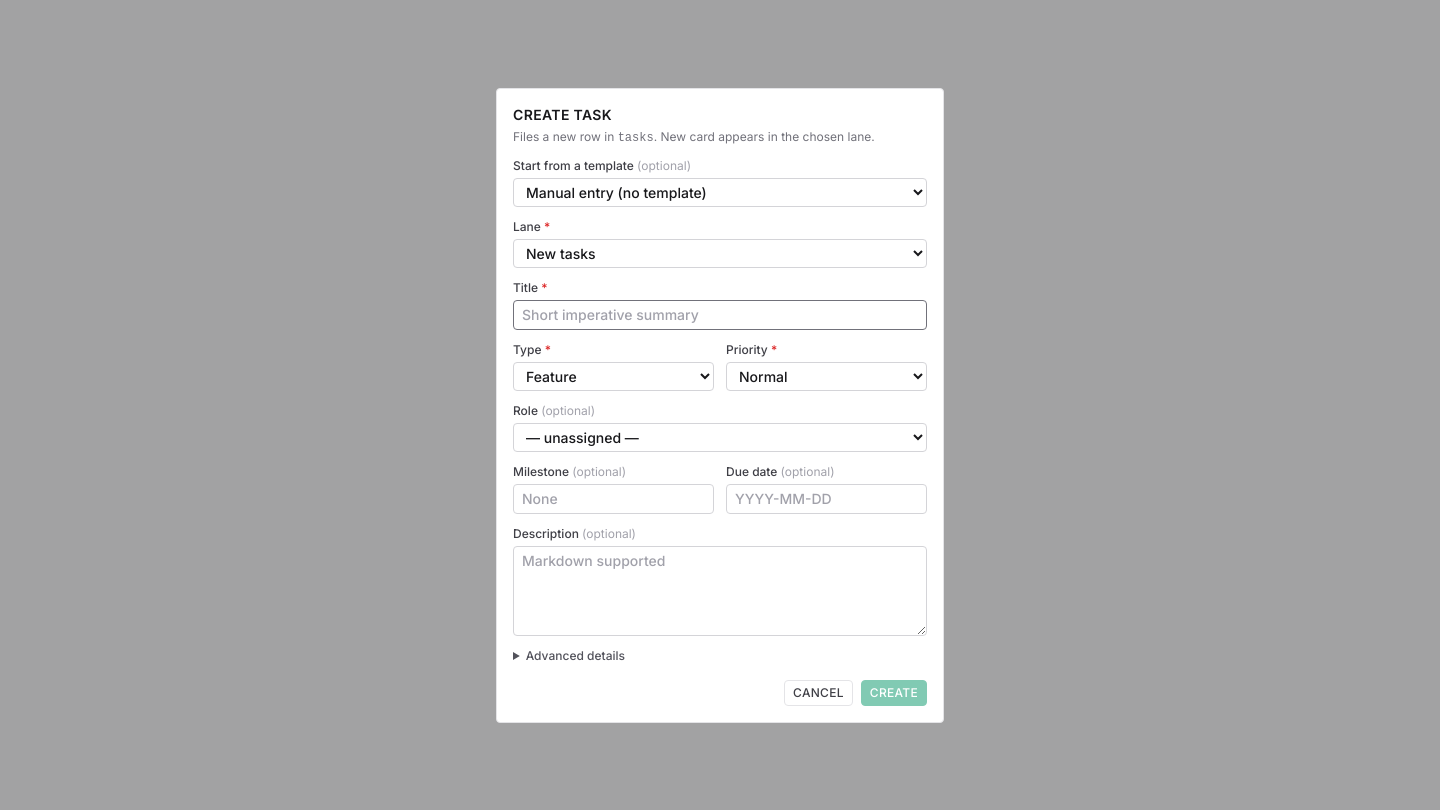
it: NewTaskModal — Task Template Picker (#1310) › R2-4 global-replace: all occurrences of a repeated placeholder are substituted
Select "Round-2 fixture" in the dropdown labelled "Start from a template (optional)". click: [720, 192]
box: x1=513 y1=178 x2=927 y2=206
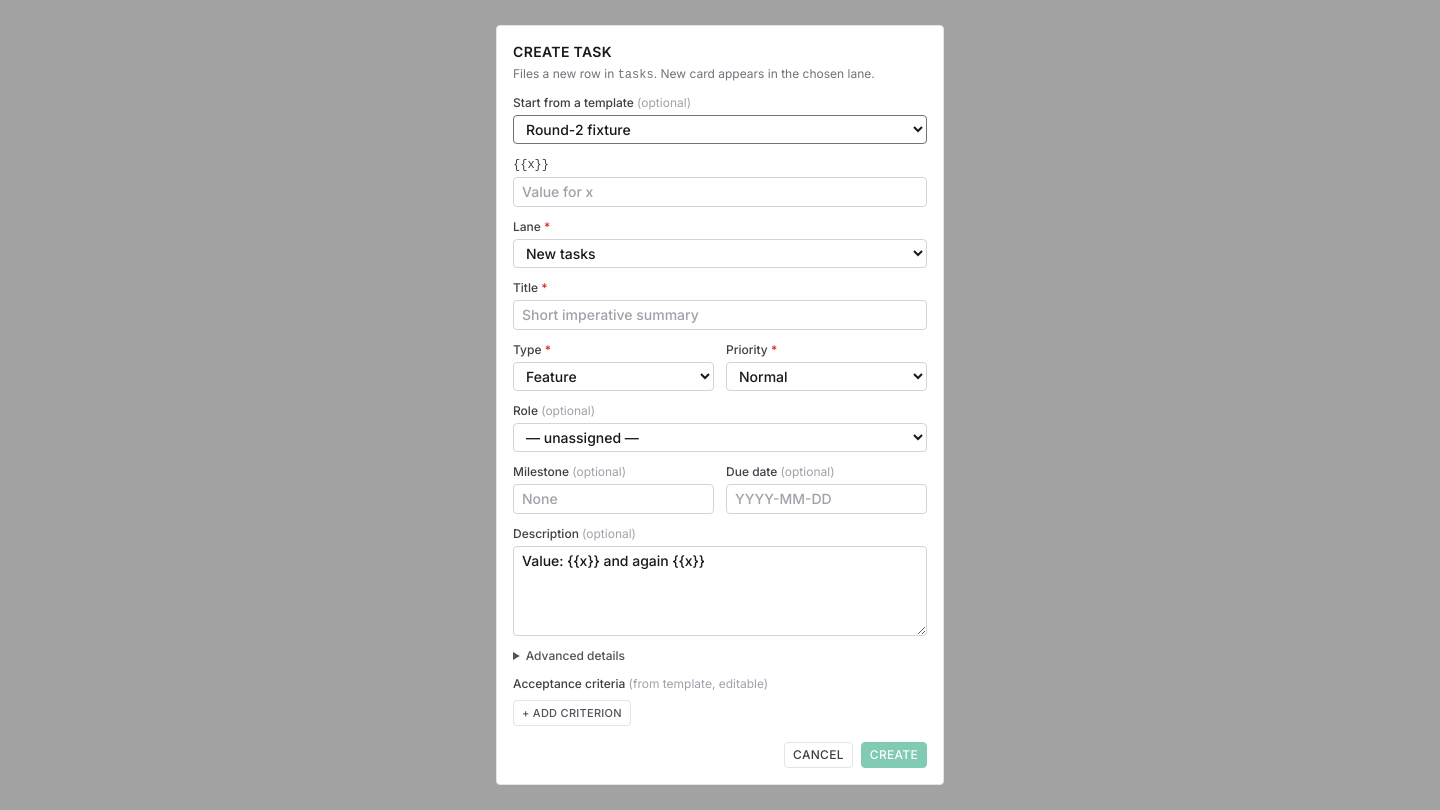
expect the field labelled "{{x}}" is shown: met
expect the text box labelled "Description (optional)" holds "Value: {{x}} and again {{x}}": met, box x1=513 y1=546 x2=927 y2=636
Type "Z" into the field labelled "{{x}}". click: [720, 192]
box: x1=513 y1=177 x2=927 y2=207
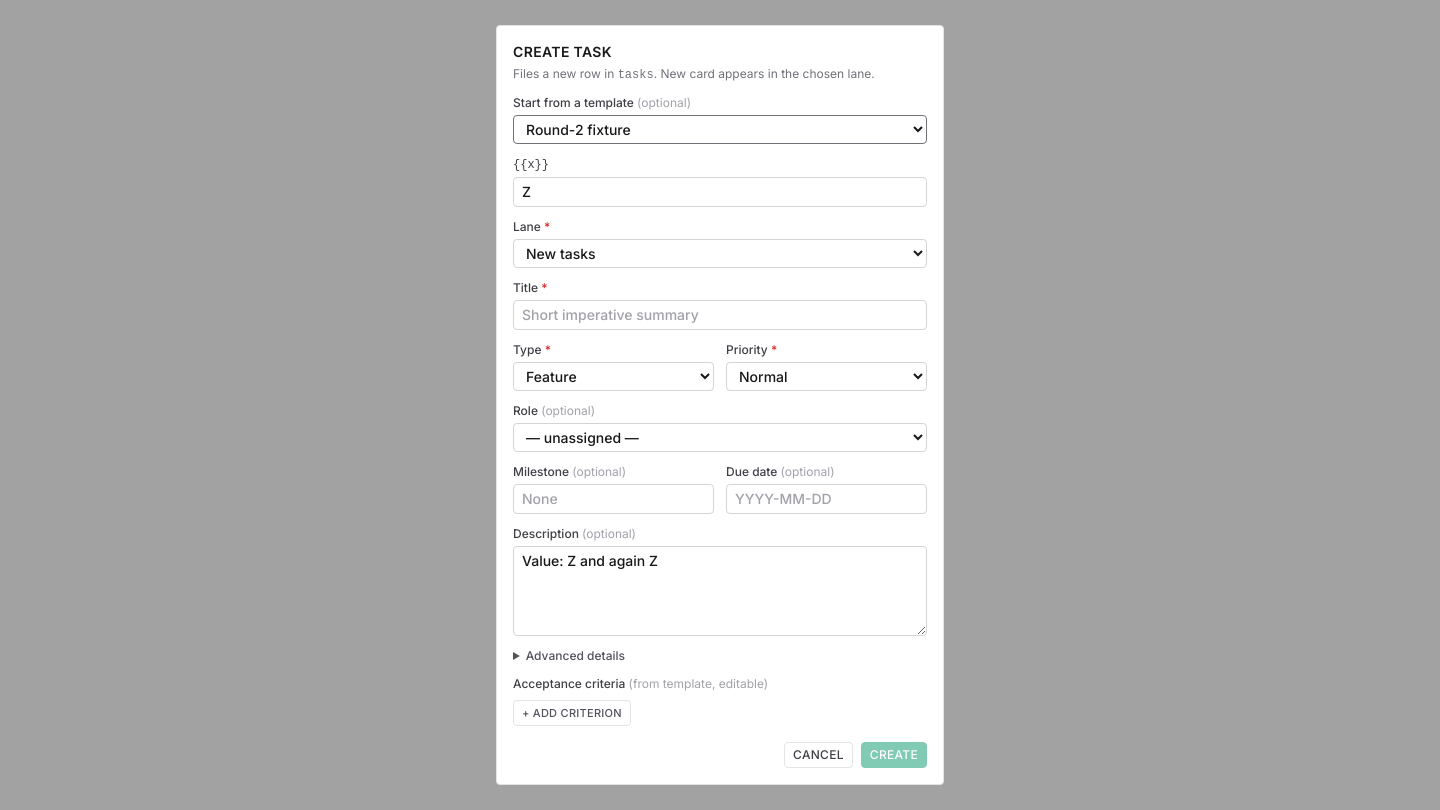
expect the text box labelled "Description (optional)" holds "Value: Z and again Z": met, box x1=513 y1=546 x2=927 y2=636
